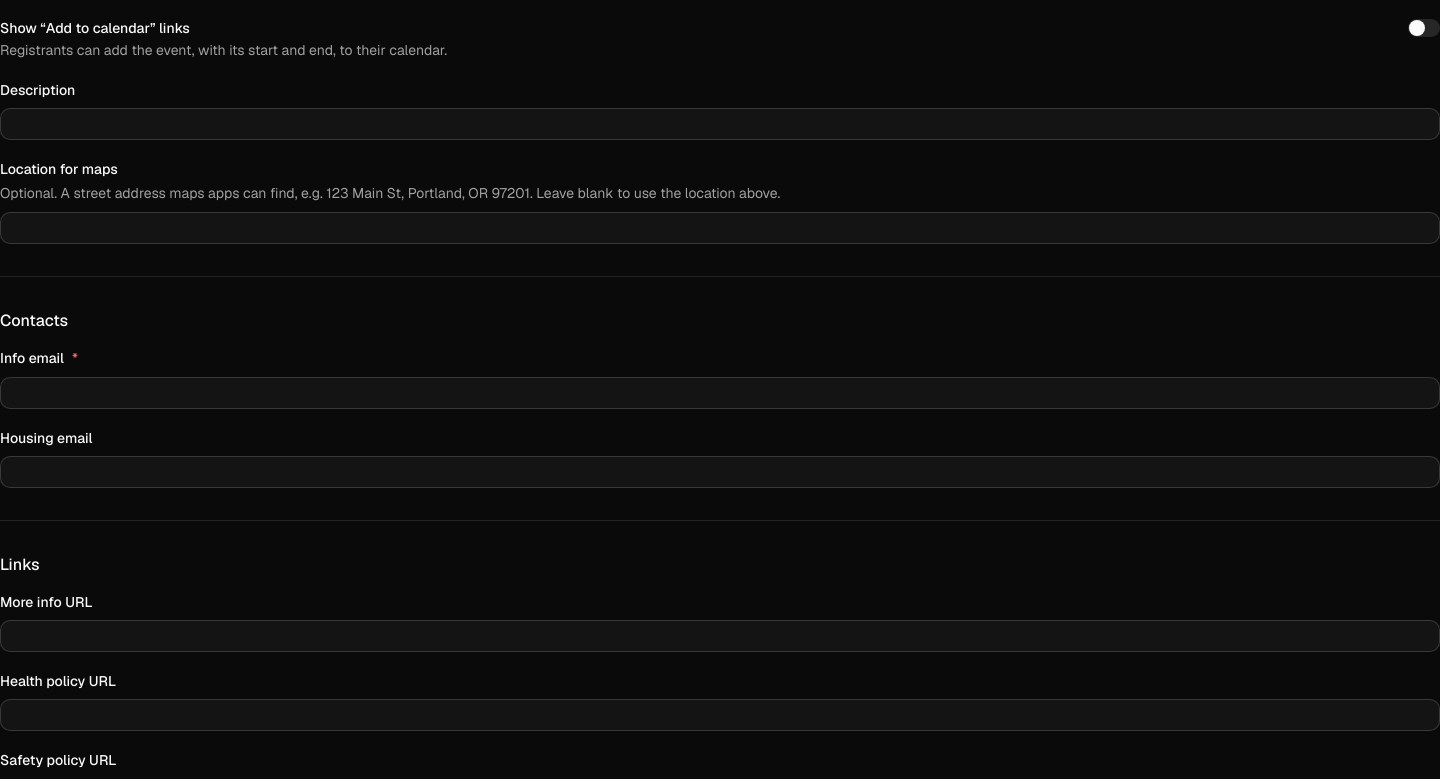
Test: EventForm › flags a malformed info email and doesn't save it
This screenshot has width=1440, height=779.
(page scrolled)
Step 1. Type "info-at-example" into the field with id "event-contact-info" → (720, 392), box [0,376,1439,408]
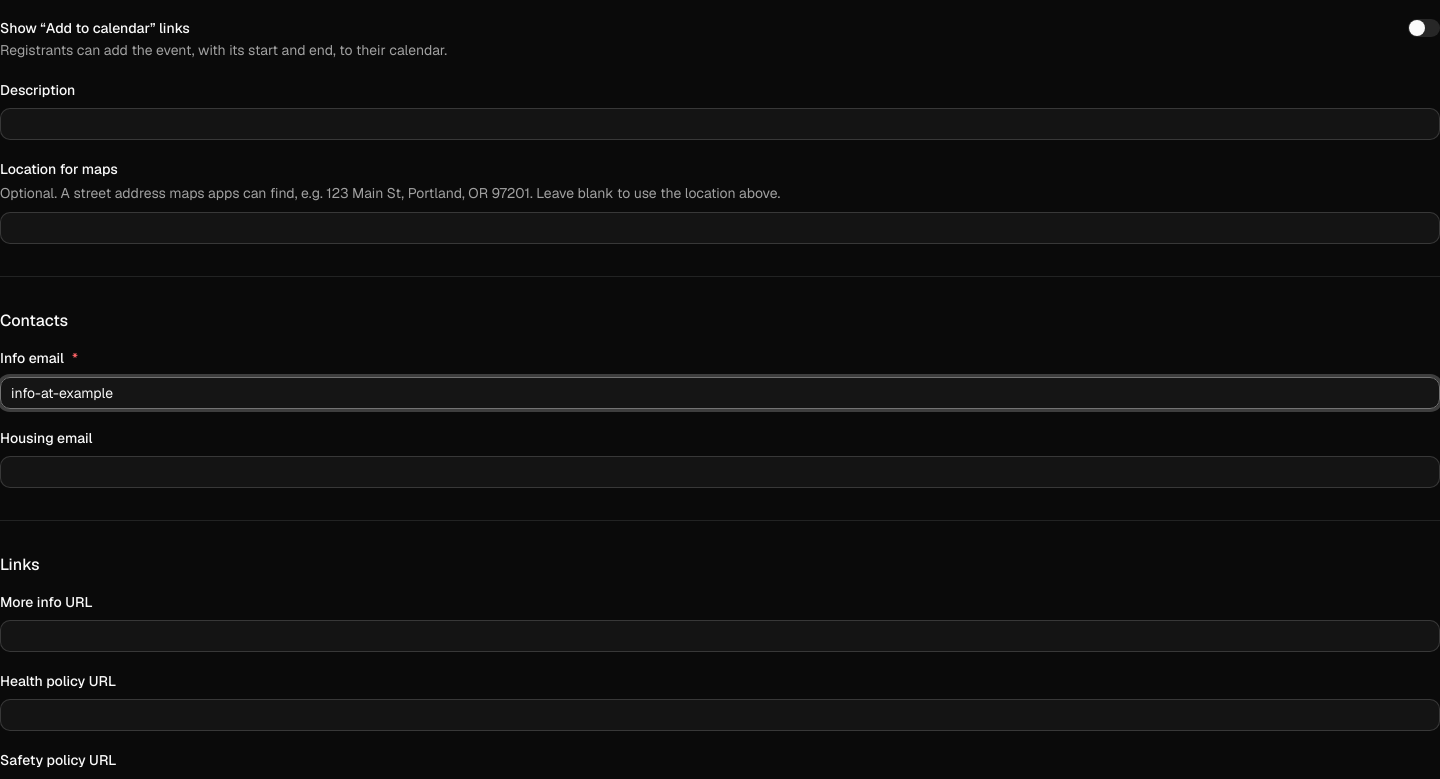
Step 2. Press Tab
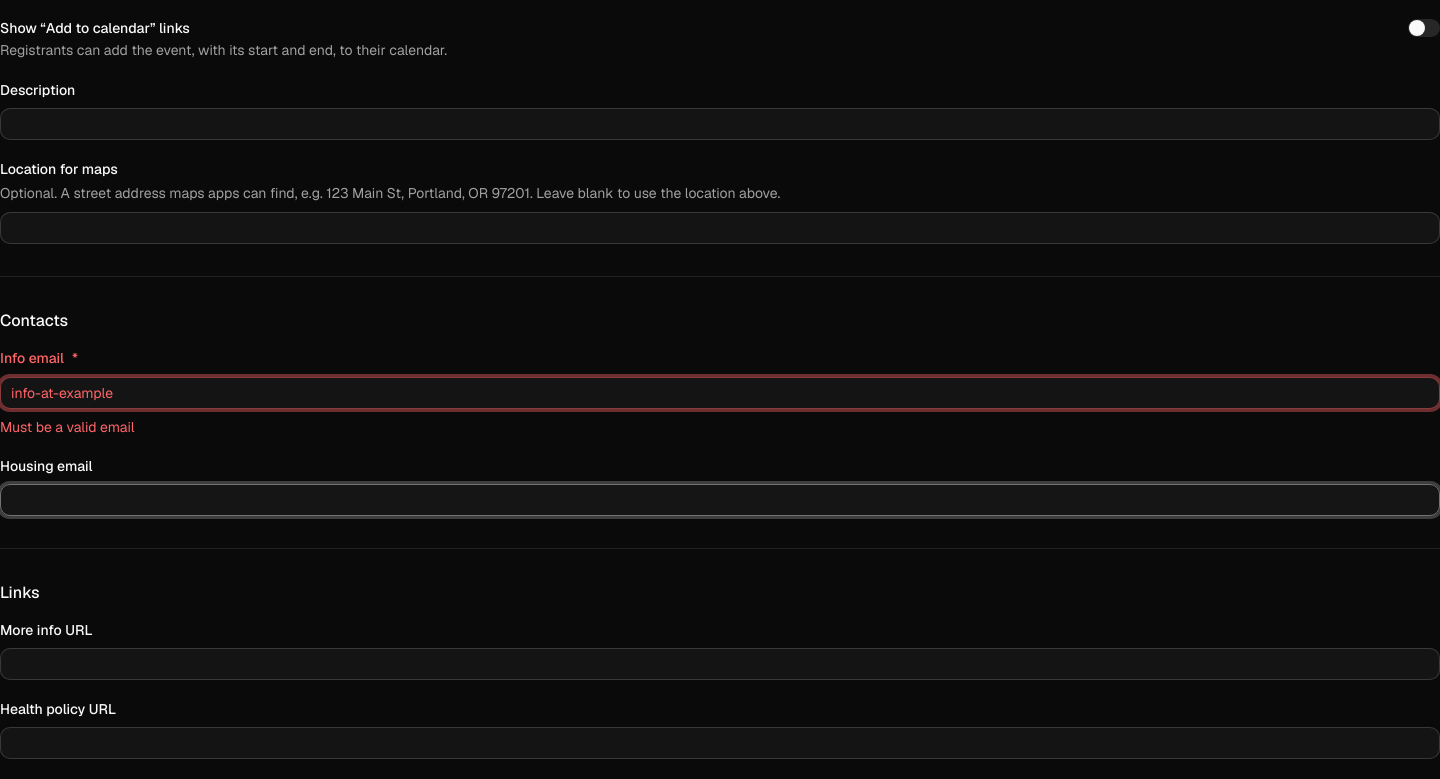
Expected: the message reads "Must be a valid email", [0,418,134,436]
